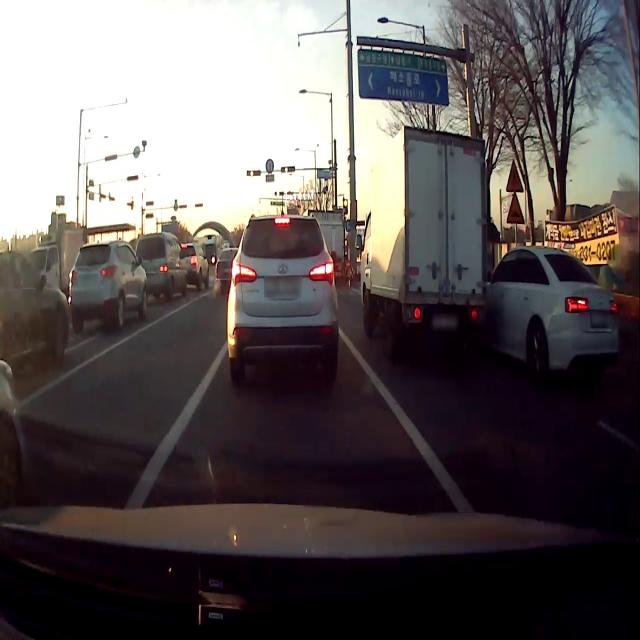Yellow Light: (284, 165, 288, 173), (250, 170, 254, 177)
